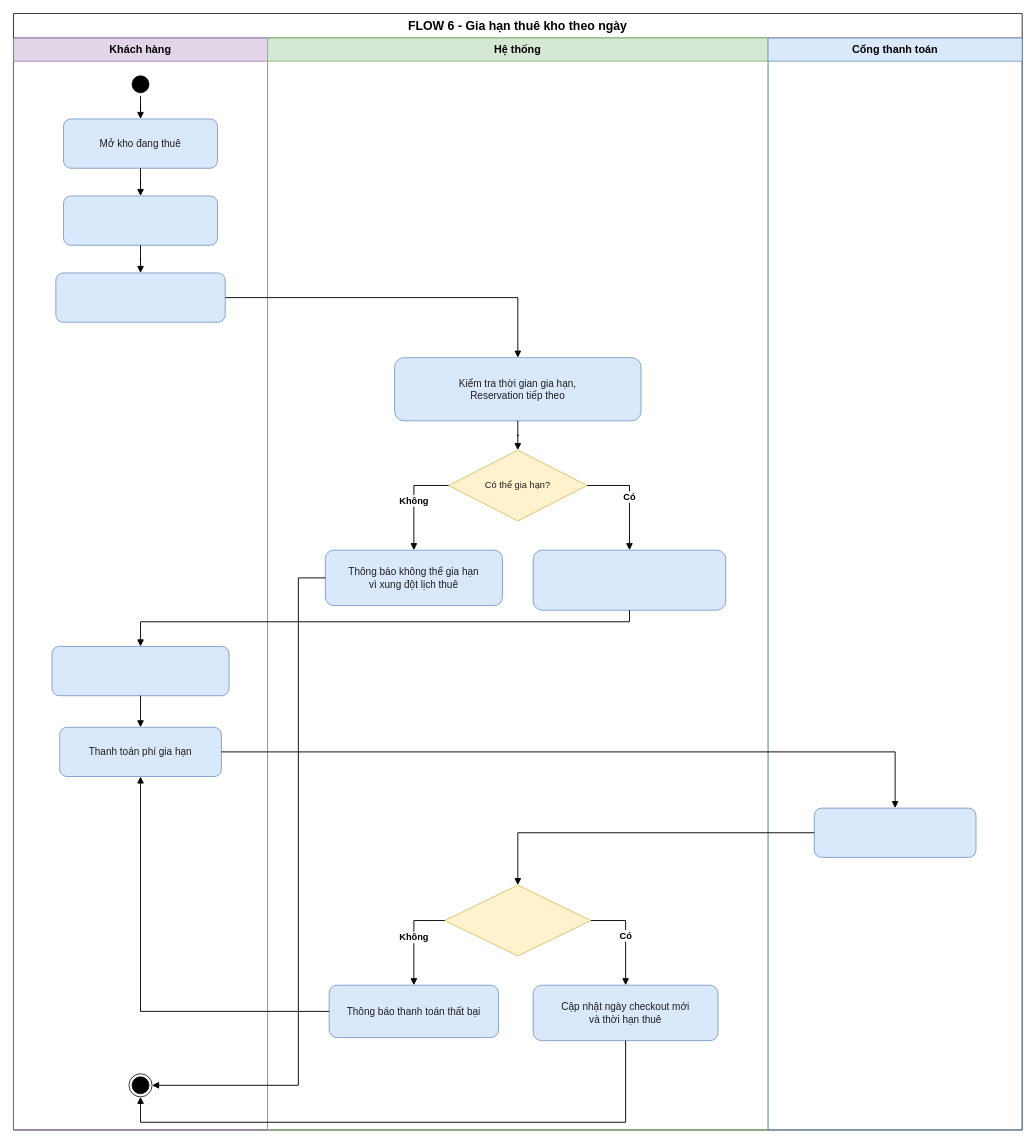
The diagram is 1036 pixels wide and 1143 high, and some of its shapes have lost their labels. The shapes that lost their labels are listed below. From the top down, each one's centre as x and y in pixels, then its label:
At (140,220): "Yêu cầu gia hạn".
At (140,297): "Chọn thời gian muốn gia hạn".
At (629,579): "Tính phí gia hạn = cọc cũ - cọc mới và phí mới".
At (140,671): "Xem và xác nhận phí gia hạn".
At (895,832): "Xử lý thanh toán".
At (517,920): "Thanh toán thành công?".
